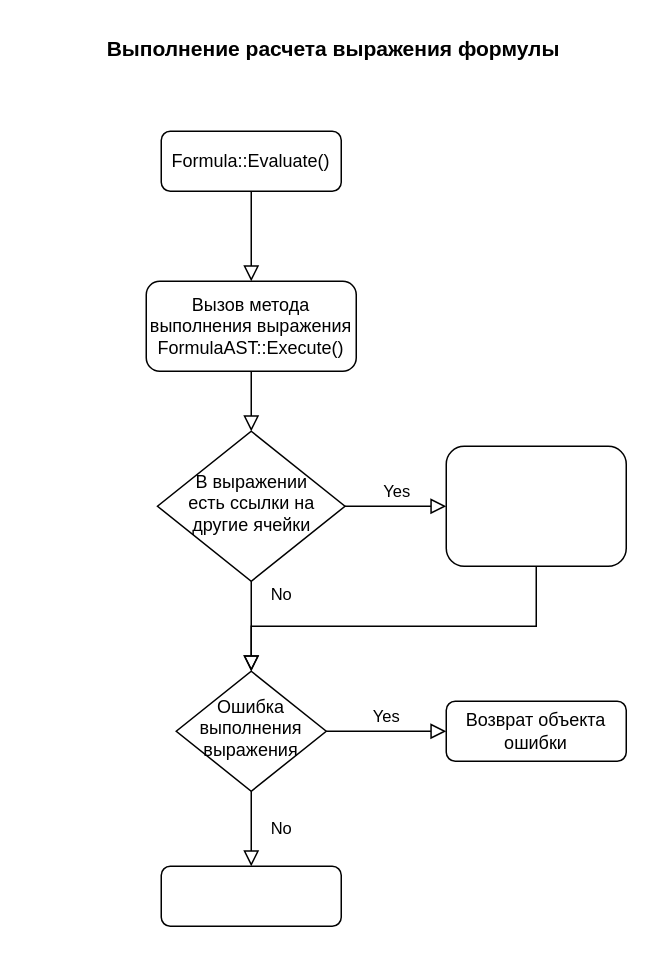
Image size: 666x953. Some labels were removed from this diagram. The centre of each missing label's shape, as x and y in pixels:
Возврат значения: (x=250, y=895)
Получение кэшированного значения ссылочных ячеек из аргумента LookupValue: (x=535, y=505)
